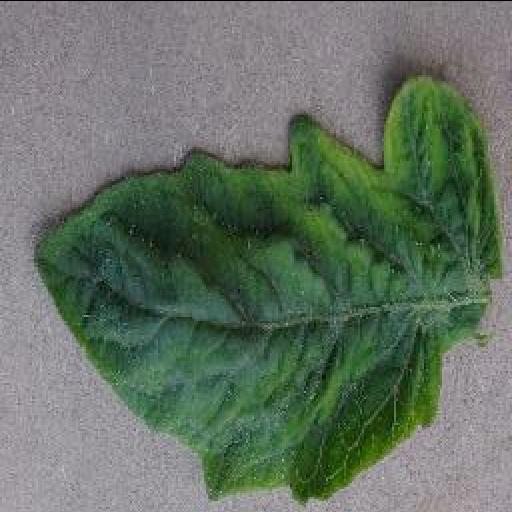disease_tomato: (30, 73, 510, 502)
